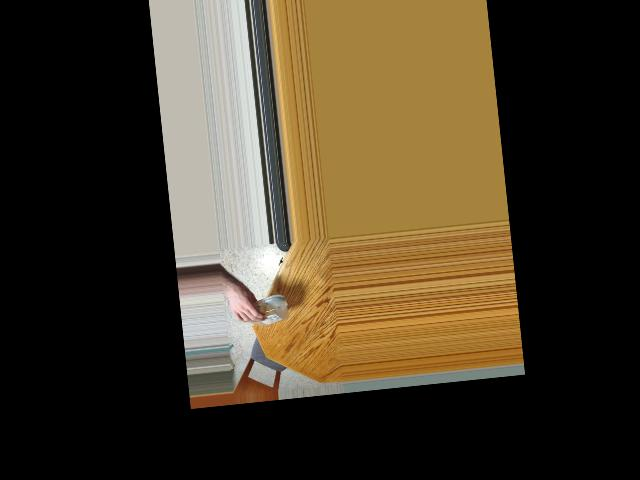cheese: (240, 291, 281, 328)
